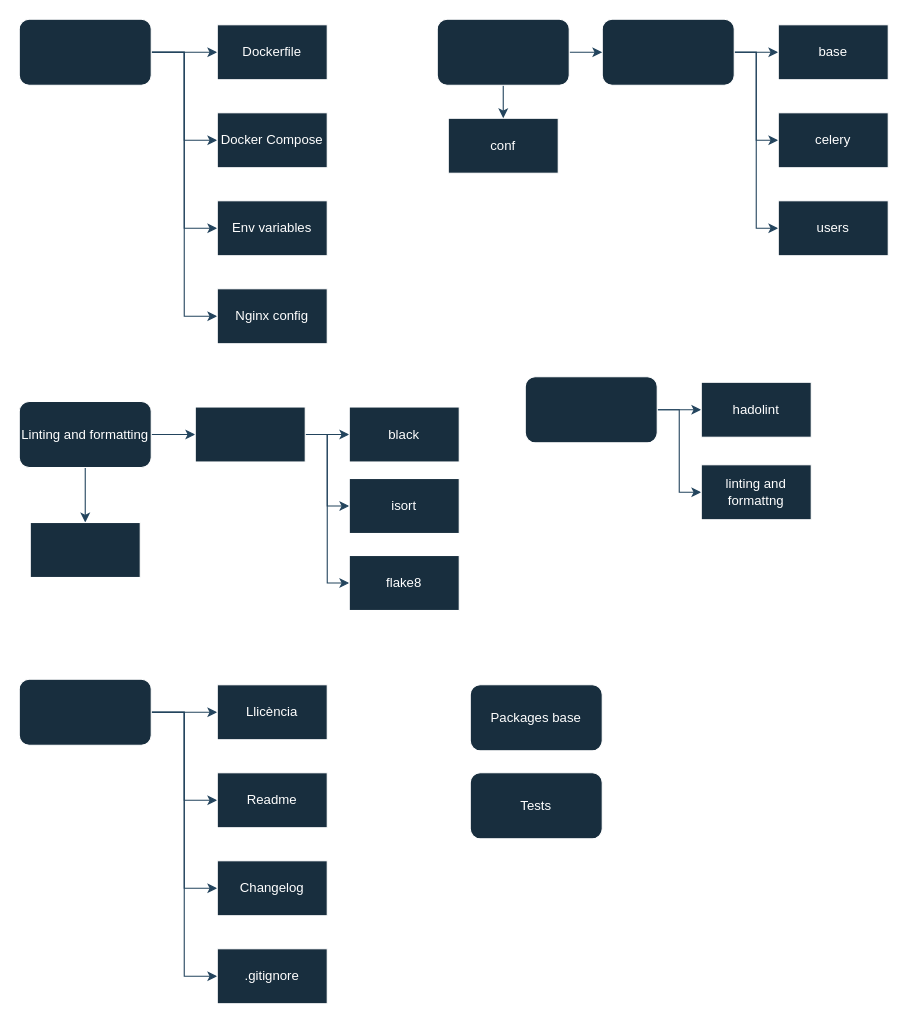
Some shapes in this 908 by 1023 pixel diagram are drawn without their labels. Each missing label, with the centre of its shape:
.editorconfig: point 84,549
Apps base: point 667,51
Dockerització: point 84,51
Github actions: point 590,409
Metadades: point 84,711
Projecte Django: point 502,51
tox: point 249,434
